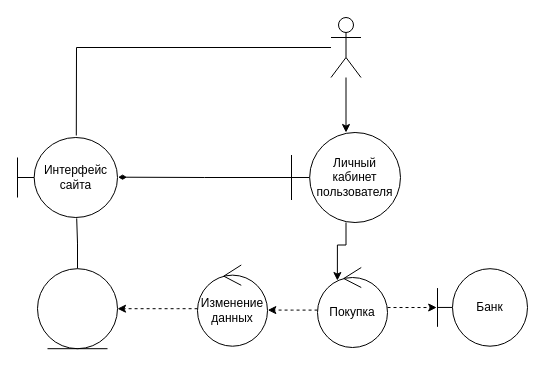
Some shapes in this 545 by 367 pixel diagram are drawn without their labels. Each missing label, with the centre of its shape:
База данных спектаклей: point 77,308
Пользователь: point 345,47
